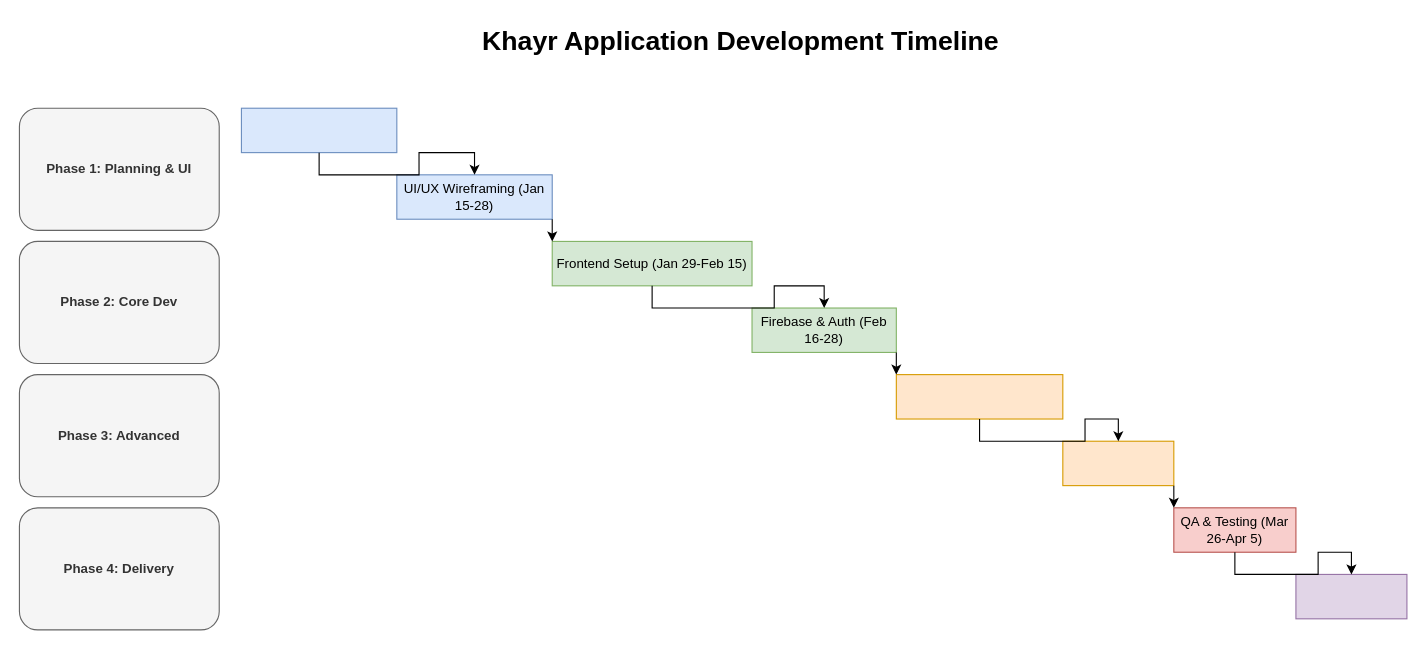
Some shapes in this 1426 by 649 pixel diagram are drawn without their labels. The shapes that lost their labels are listed below. From the top down, each one's centre as x and y in pixels, then its label:
pixel 318 130: Requirements Gathering (Jan 1-14)
pixel 979 396: AI Vision / Logic (Mar 1-15)
pixel 1118 463: Maps & Routing (Mar 16-25)
pixel 1351 596: Release & Report (Apr 6-10)
